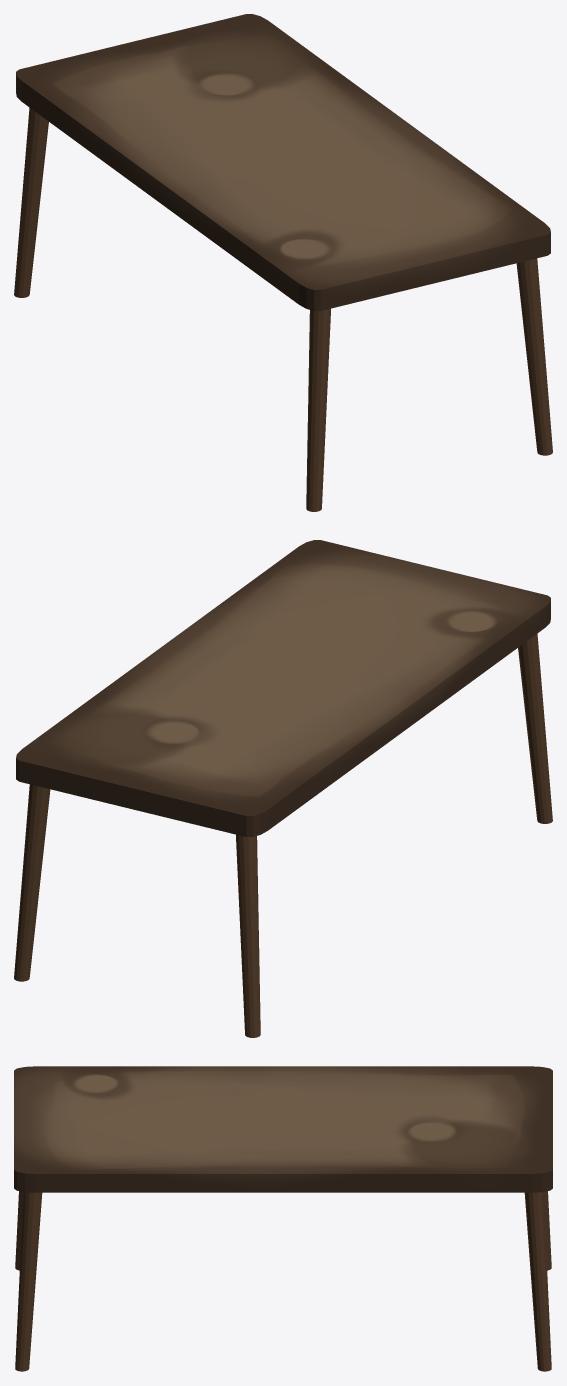
Rendered from Table.fbx.
3 renders of one model, top to bottom at view 1: azimuth 30°, elevation 25°; view 2: azimuth 150°, elevation 25°; view 3: azimuth 270°, elevation 25°, orthographic. The views are drawn at different scales.
Visible parts, largest first — view 1: Mesa; view 2: Mesa; view 3: Mesa.
Boxes of the visible parts, x1=… form: Mesa: x1=14, y1=14, x2=552, y2=511; Mesa: x1=14, y1=540, x2=552, y2=1037; Mesa: x1=14, y1=1066, x2=552, y2=1371.
Size of the model in its own units: 324 by 278 by 685.
